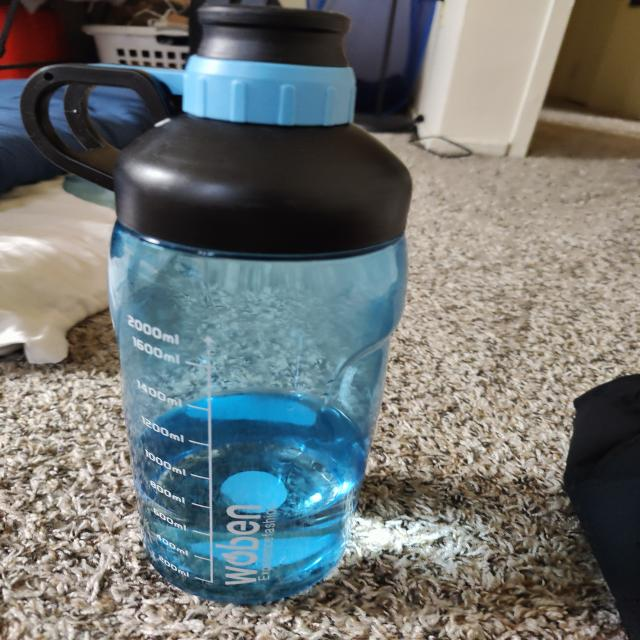bottle: (2, 5, 456, 601)
